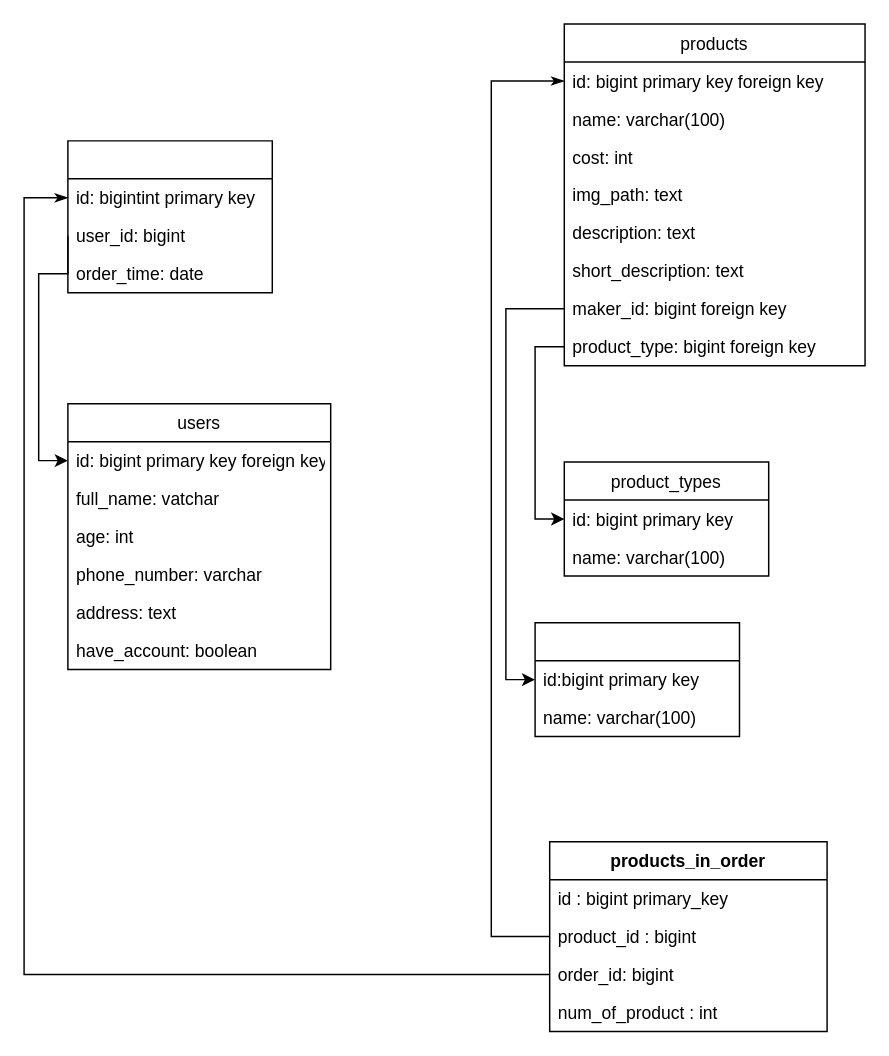
Some shapes in this 889 by 1056 pixel diagram are drawn without their labels. The box of each missing label's shape, as (x1, y1, x2, y2) in pixels:
makers: (534, 621, 739, 737)
orders: (66, 139, 272, 293)
